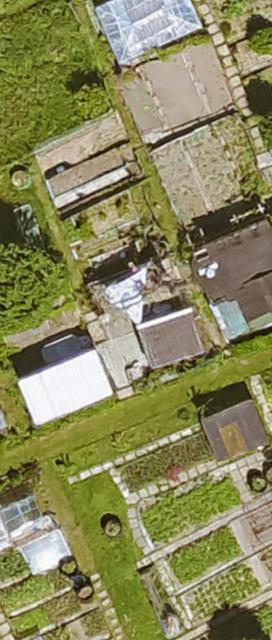tree: (0, 242, 70, 328)
